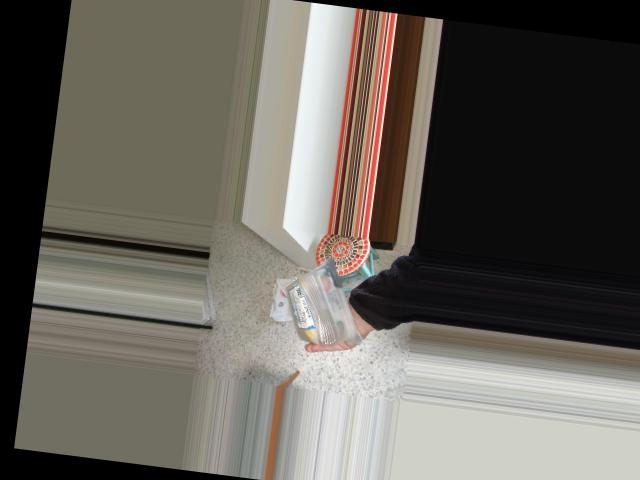cheese: (260, 280, 355, 330)
